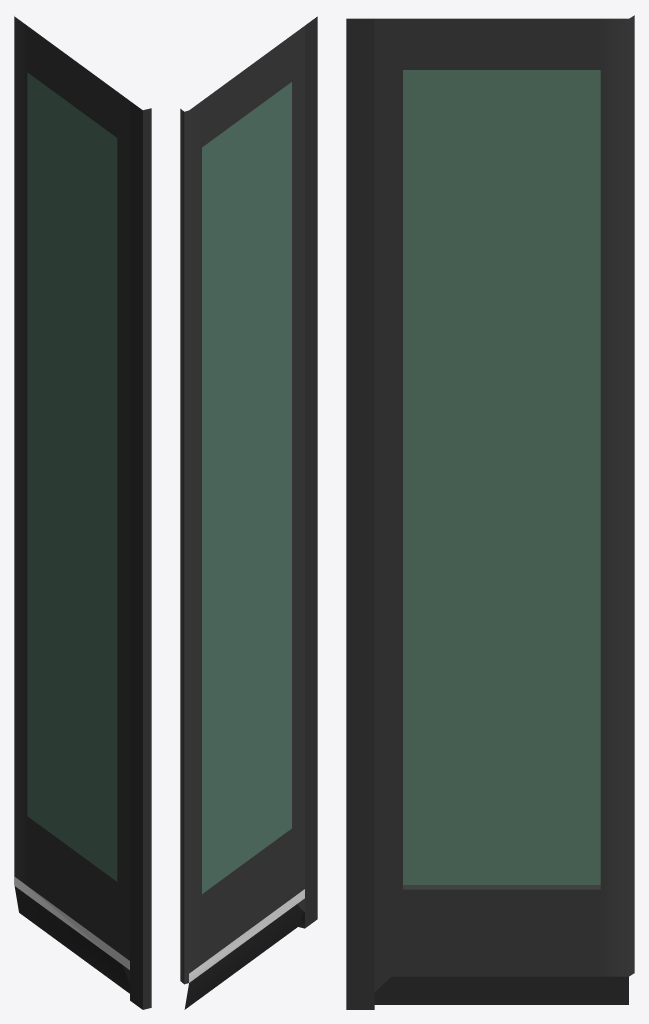
File: BifoldDoor_GuidePanel.glb
3 views of the same model, side by side, from view 1: azimuth 30°, elevation 25°; view 2: azimuth 150°, elevation 25°; view 3: azimuth 270°, elevation 25° (orthographic). The views are drawn at different scales.
Parts seen in each view (by area): view 1: 側面L-前扉2; view 2: 側面L-前扉2; view 3: 側面L-前扉2.
Part boxes in pixels (x1,y1,x2,y2): 側面L-前扉2: (14, 16, 151, 1009); 側面L-前扉2: (180, 16, 317, 1009); 側面L-前扉2: (346, 15, 634, 1009).
Bounding box in the file's own units: 0.02 × 1.94 × 0.51.
